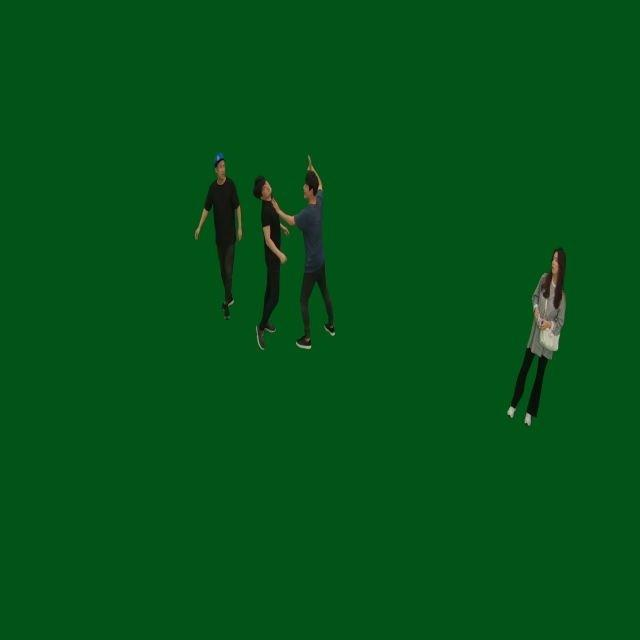fight: (253, 163, 337, 355)
non-fight: (507, 246, 566, 426), (196, 151, 243, 319)
